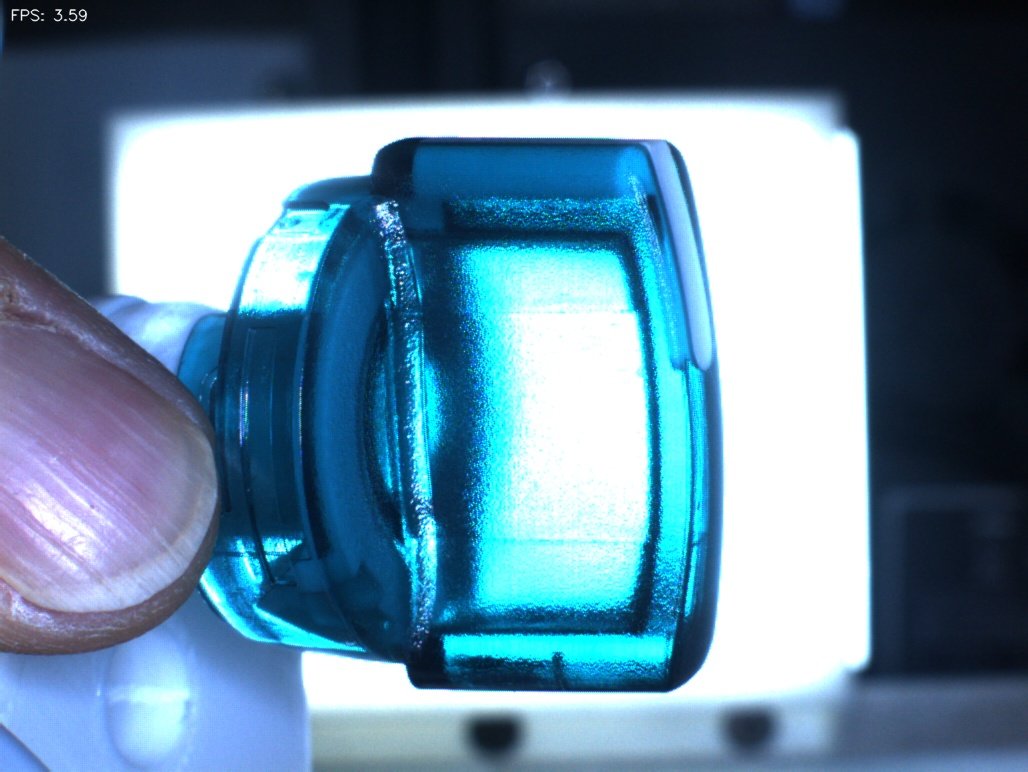Bulle: (517, 632, 608, 716)
